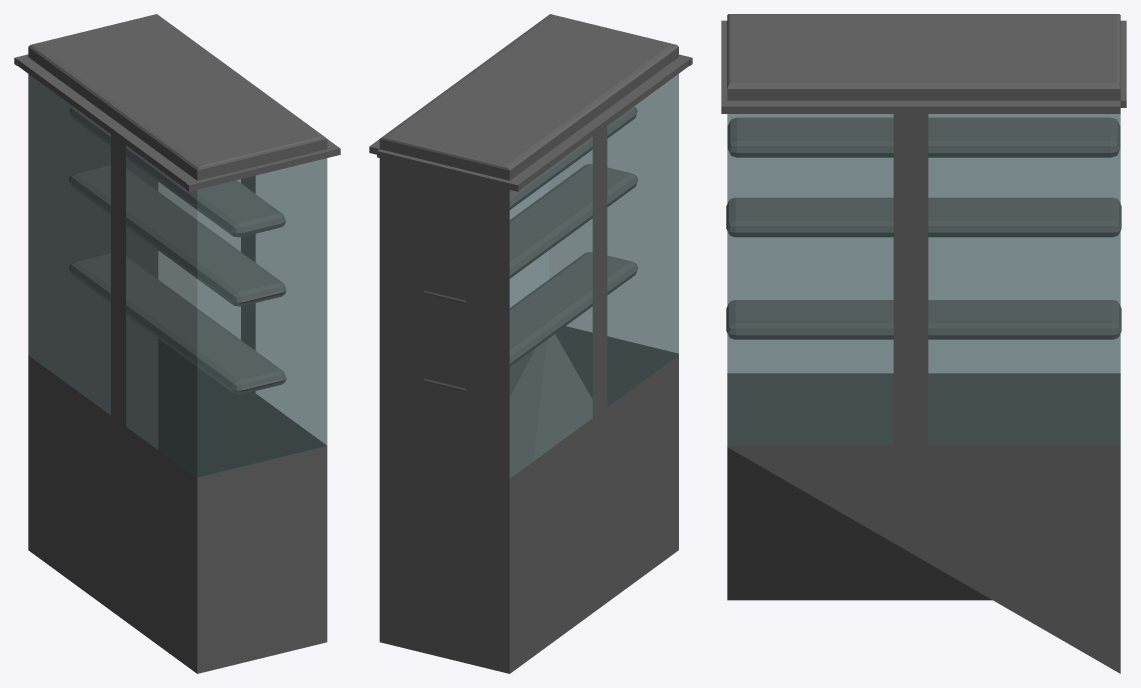
File: cabinet.fbx
3 renders of one model, left to right at view 1: azimuth 30°, elevation 25°; view 2: azimuth 150°, elevation 25°; view 3: azimuth 270°, elevation 25°, orthographic. The views are drawn at different scales.
Parts seen in each view (by area): view 1: pCube3; view 2: pCube3; view 3: pCube3.
Part boxes in pixels (x1=…): pCube3: x1=14, y1=14, x2=340, y2=673; pCube3: x1=369, y1=14, x2=692, y2=673; pCube3: x1=721, y1=14, x2=1126, y2=673.
Bounding box in the file's own units: 1.64 × 5.23 × 3.27.
